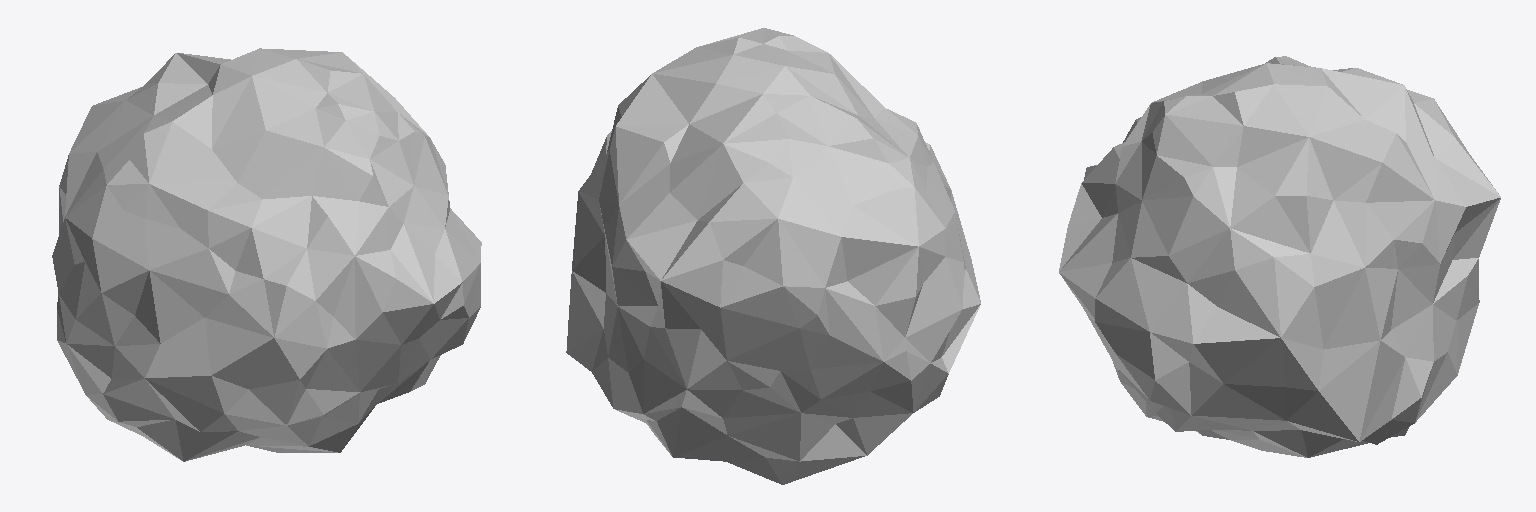
Rendered from bush_1.obj.
3 views of the same model, side by side, from view 1: azimuth 30°, elevation 25°; view 2: azimuth 150°, elevation 25°; view 3: azimuth 270°, elevation 25° (orthographic).
Parts seen in each view (by area): view 1: Tree.015; view 2: Tree.015; view 3: Tree.015.
Boxes of the visible parts, <box> form: Tree.015: <box>52,48,481,461</box>; Tree.015: <box>566,28,980,484</box>; Tree.015: <box>1059,56,1500,457</box>.
Size of the model in its own units: 3.54 by 3.43 by 3.62.